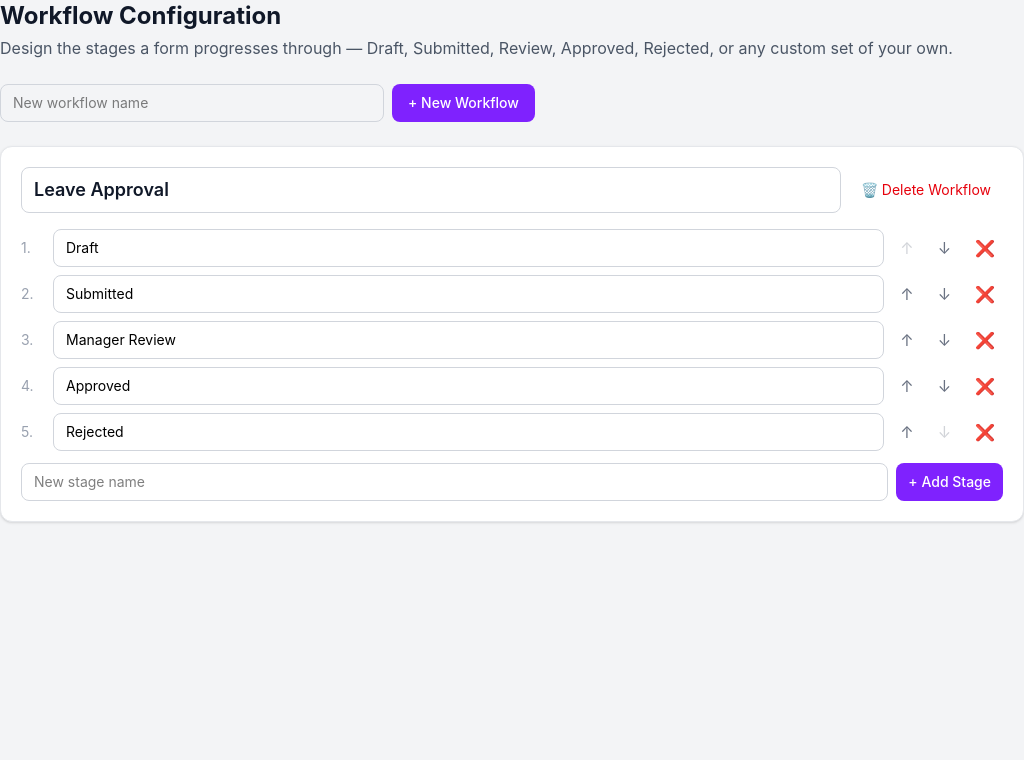
it: Workflow configuration page (Admin) › creates a new workflow with default stages
Expected: the field showing "Leave Approval" is shown, 21,167 -> 841,213
Type "Purchase Approval" into the field with placeholder "New workflow name" at [192, 103], box 0,84 -> 384,122
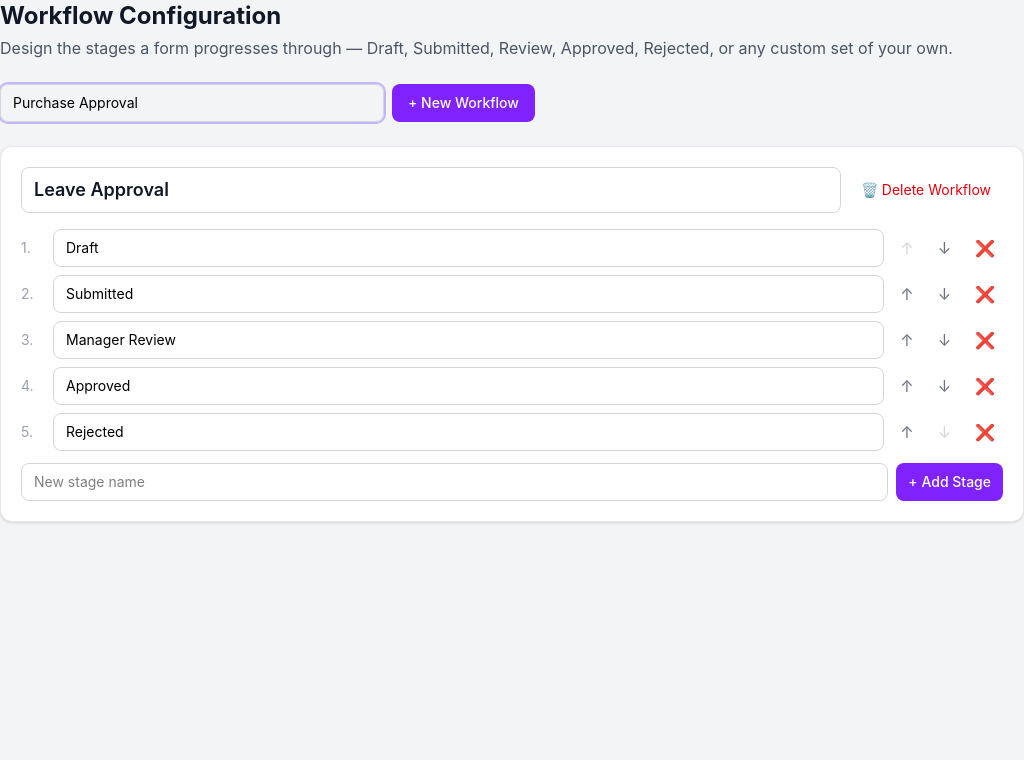
Click the button "+ New Workflow" at [463, 103], box 392,84 -> 535,122
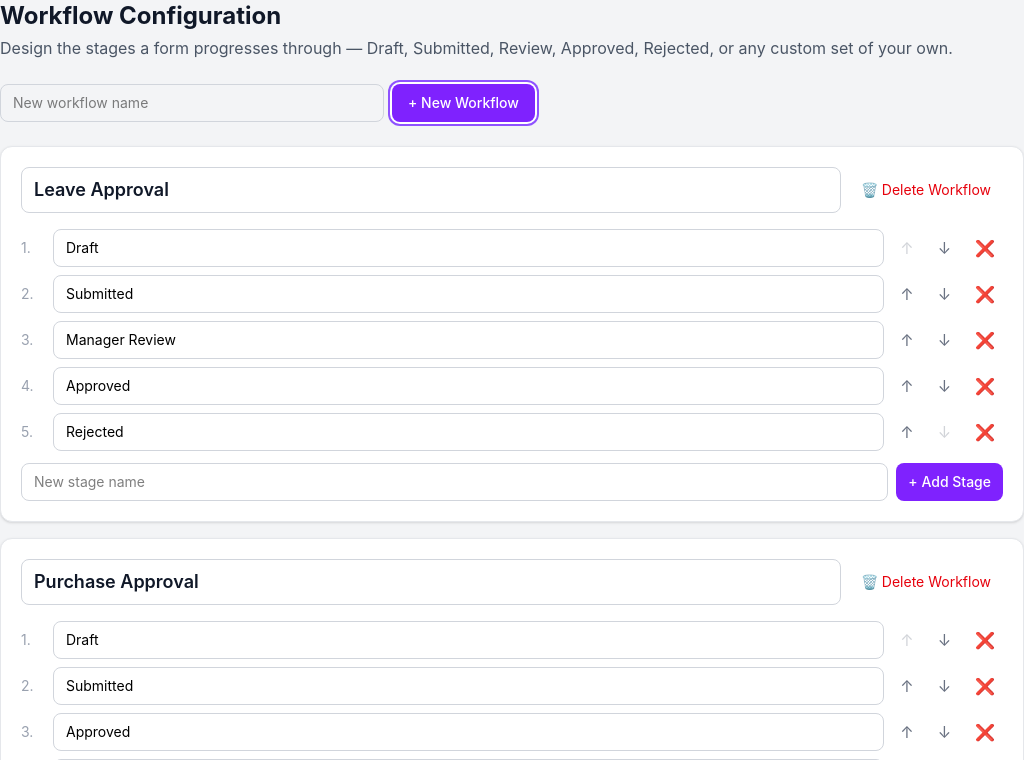
Now the 2nd field showing "Purchase Approval" is shown, box 21,559 -> 841,605
